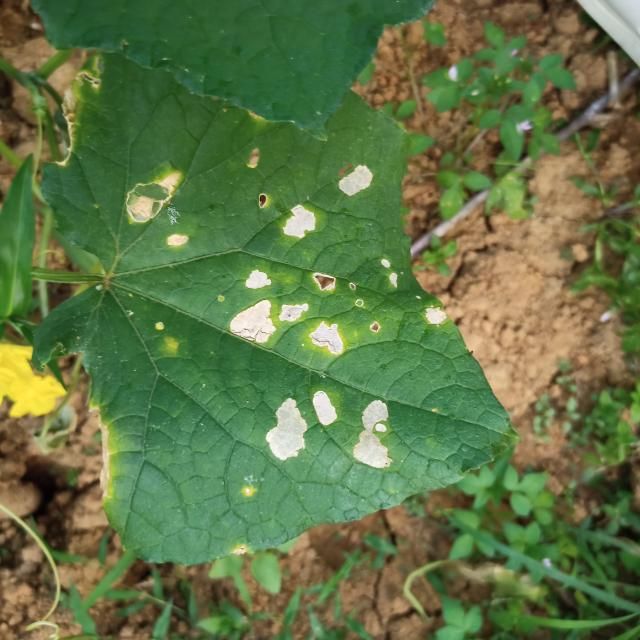disease_cucumber: (229, 267, 347, 359), (124, 171, 196, 250), (265, 389, 338, 463), (354, 397, 395, 473), (334, 162, 374, 200), (282, 202, 318, 240), (378, 256, 402, 292), (422, 301, 447, 329)
